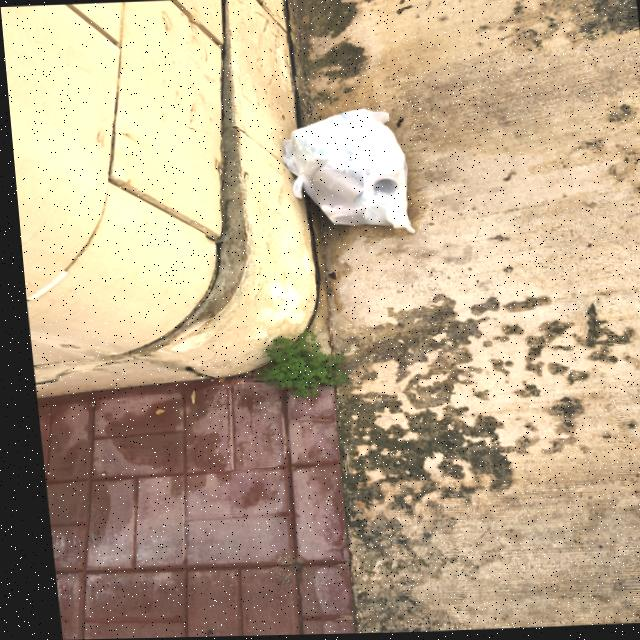Organic Waste -White Bag-: (269, 98, 428, 249)
